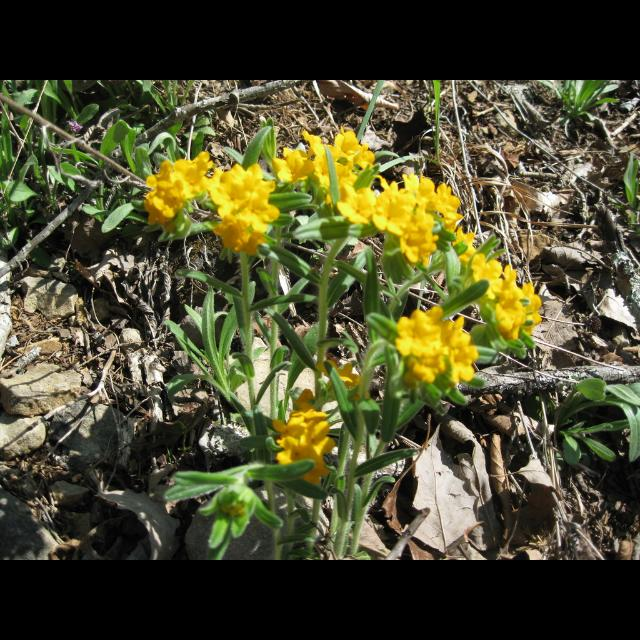Flower: (271, 126, 544, 338), (396, 308, 480, 386), (208, 163, 276, 254), (144, 152, 210, 226), (269, 408, 335, 480), (318, 363, 374, 399)
